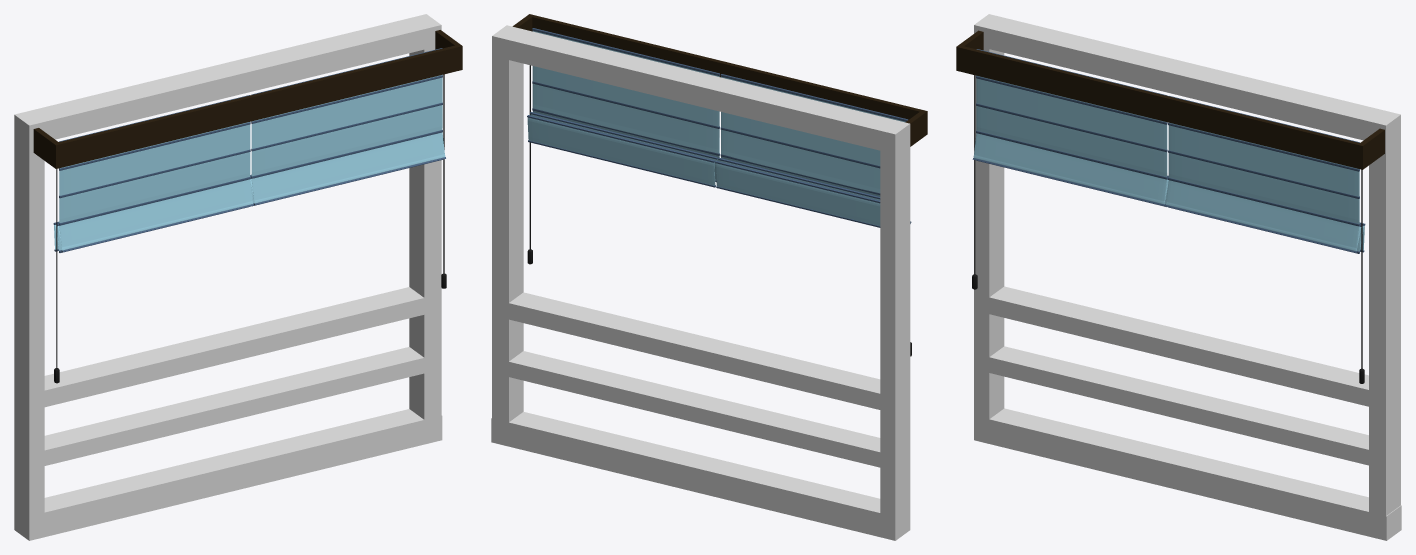
The model's file is pencere-son.fbx.
3 views of the same model, side by side, from view 1: azimuth 30°, elevation 25°; view 2: azimuth 150°, elevation 25°; view 3: azimuth 330°, elevation 25° (orthographic). The views are drawn at different scales.
Parts seen in each view (by area): view 1: pencere3; view 2: pencere3; view 3: pencere3.
Boxes of the visible parts, left/top/right/bottom form: pencere3: left=14, top=14, right=462, bottom=540; pencere3: left=491, top=14, right=927, bottom=540; pencere3: left=956, top=14, right=1401, bottom=540.
Bounding box in the file's own units: 153 × 147 × 23.93.
